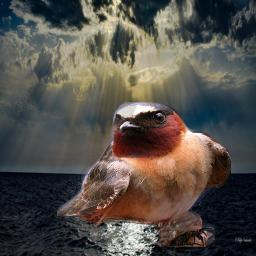Swallow: (57, 102, 231, 247)
